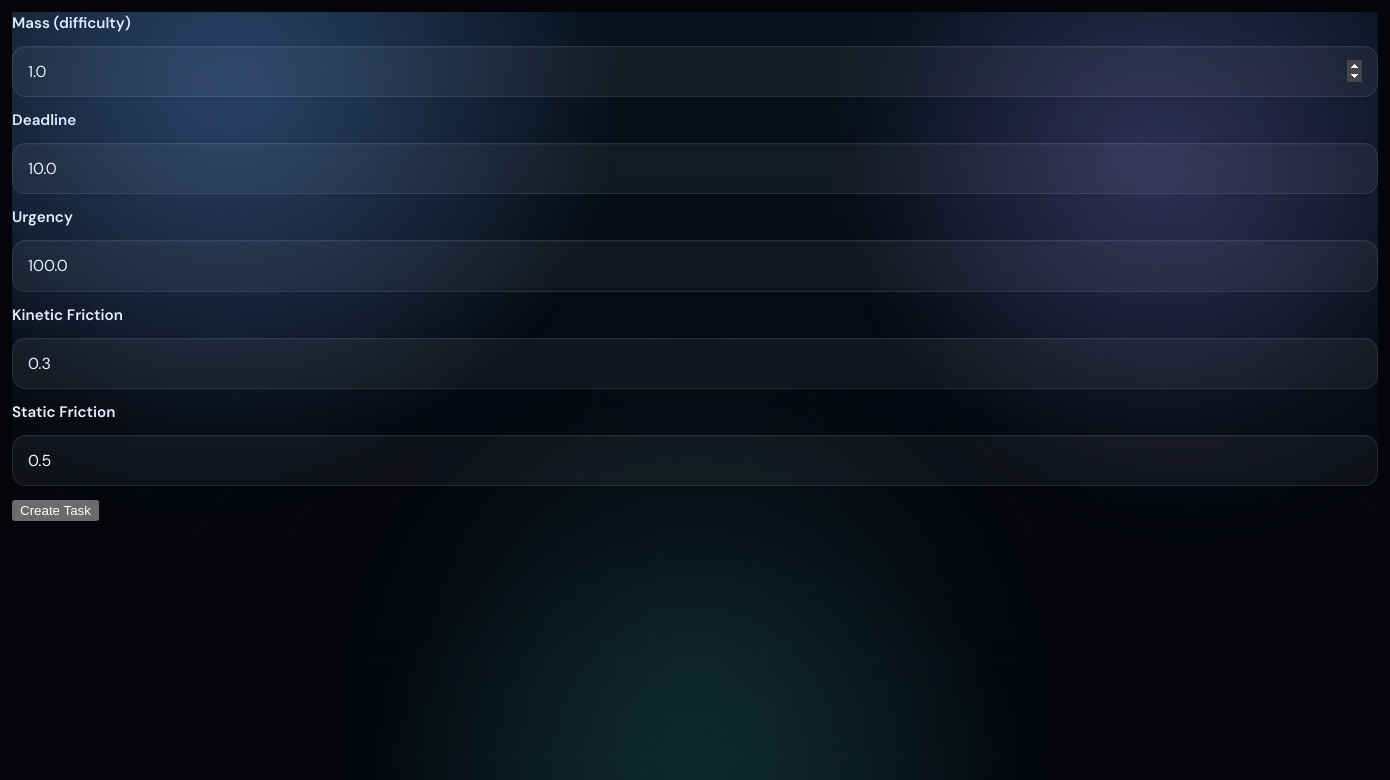
Scenario: TaskCreationForm – mass validation › shows error when mass is zero
Replace the text in the number field with test id "input-mass" with "0" at x=695, y=72, box [12, 46, 1378, 97]
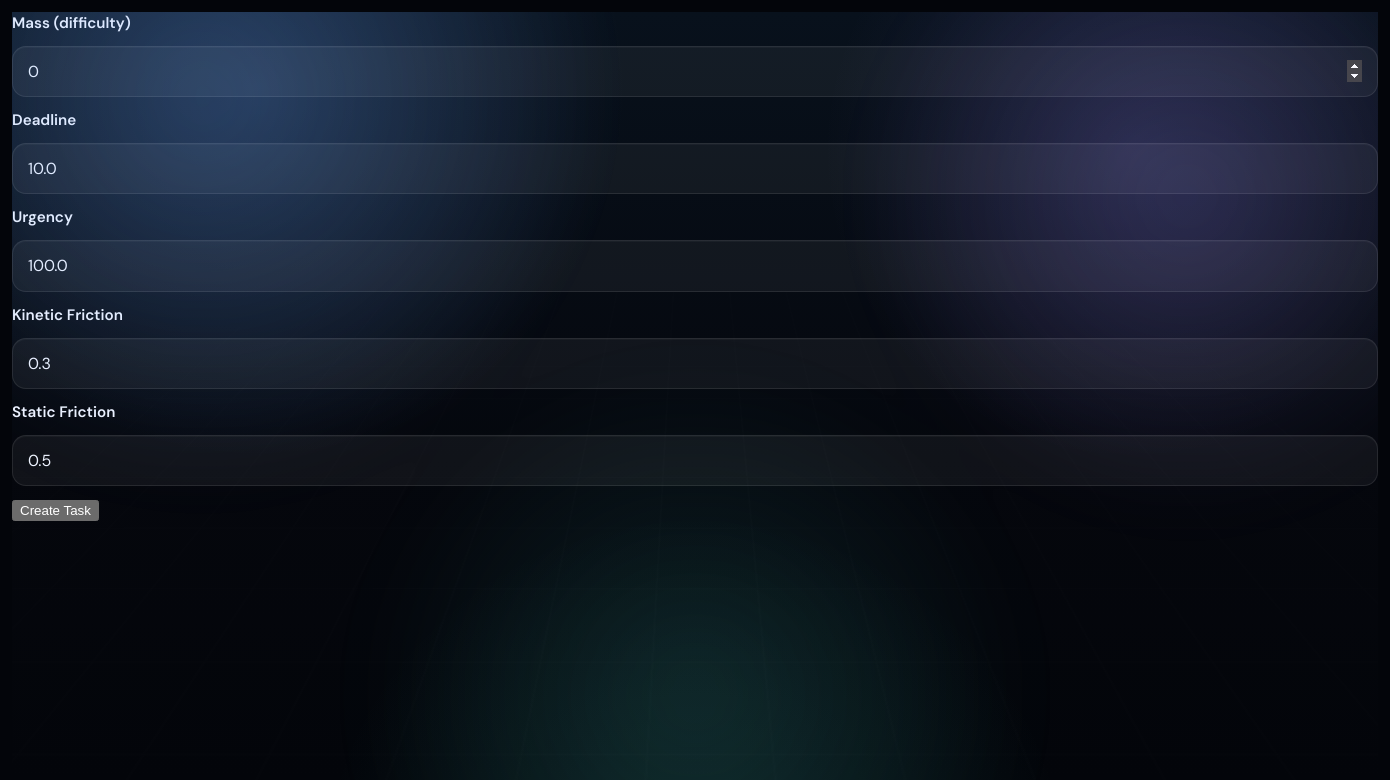
Click the button with test id "submit-button" at x=55, y=511, box [12, 500, 99, 521]
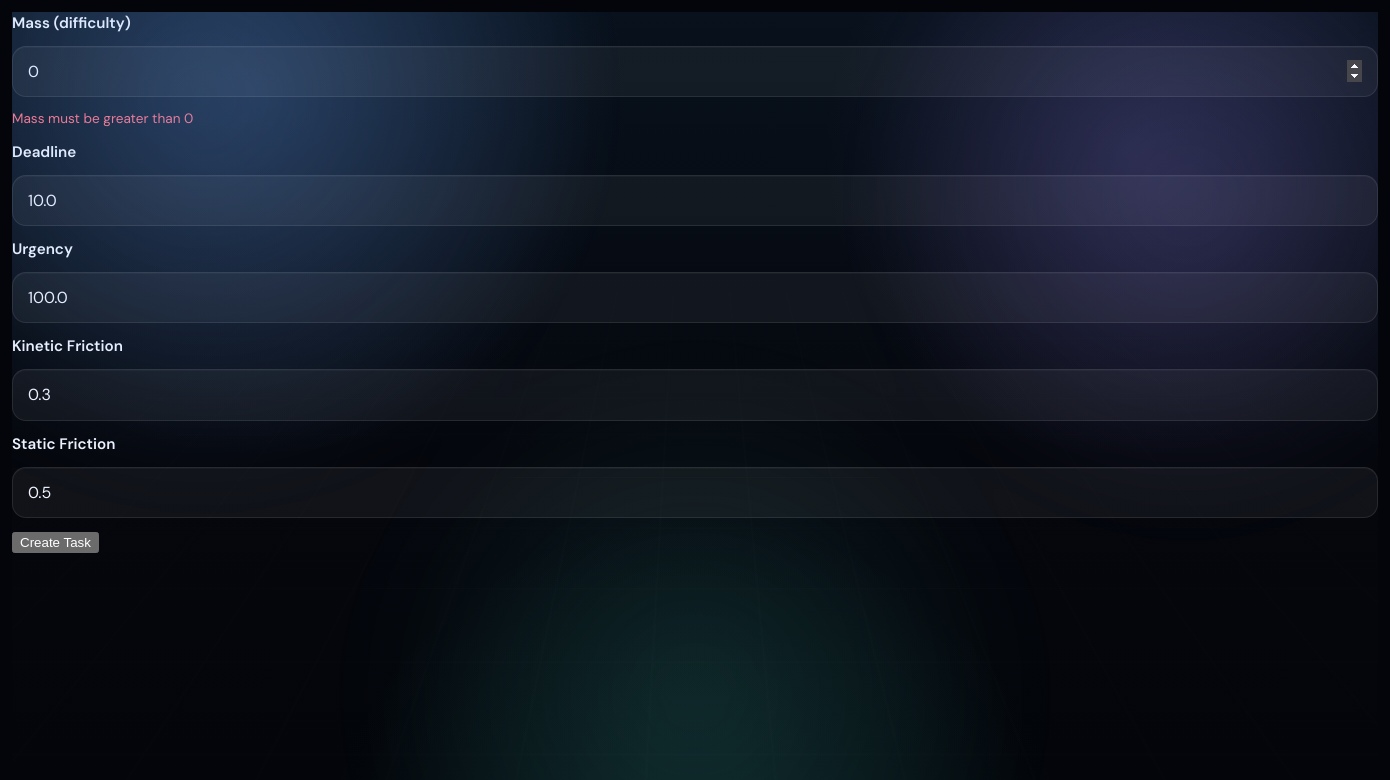
Expected: the message "Mass must be greater than 0" is shown, [12, 110, 193, 127]
